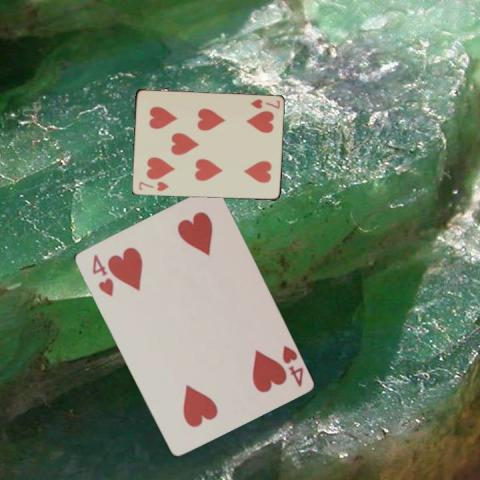4h: (278, 342, 304, 389), (88, 251, 114, 297)
7h: (136, 178, 170, 192), (247, 97, 281, 110)
